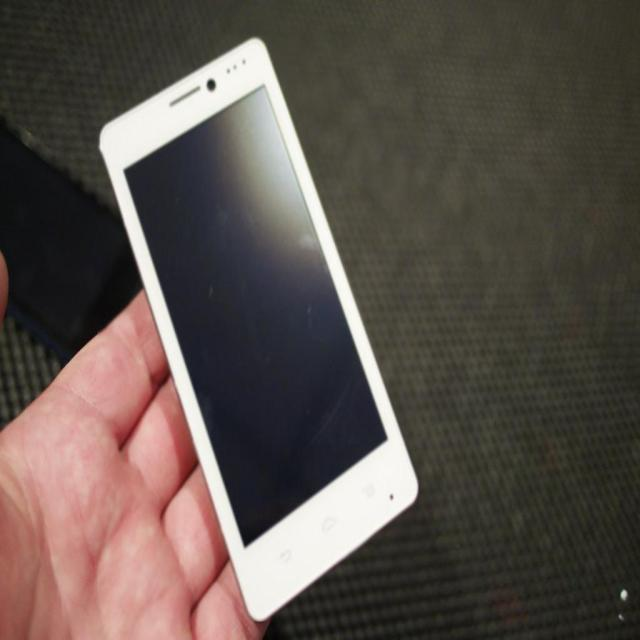handphone: (109, 39, 410, 611)
